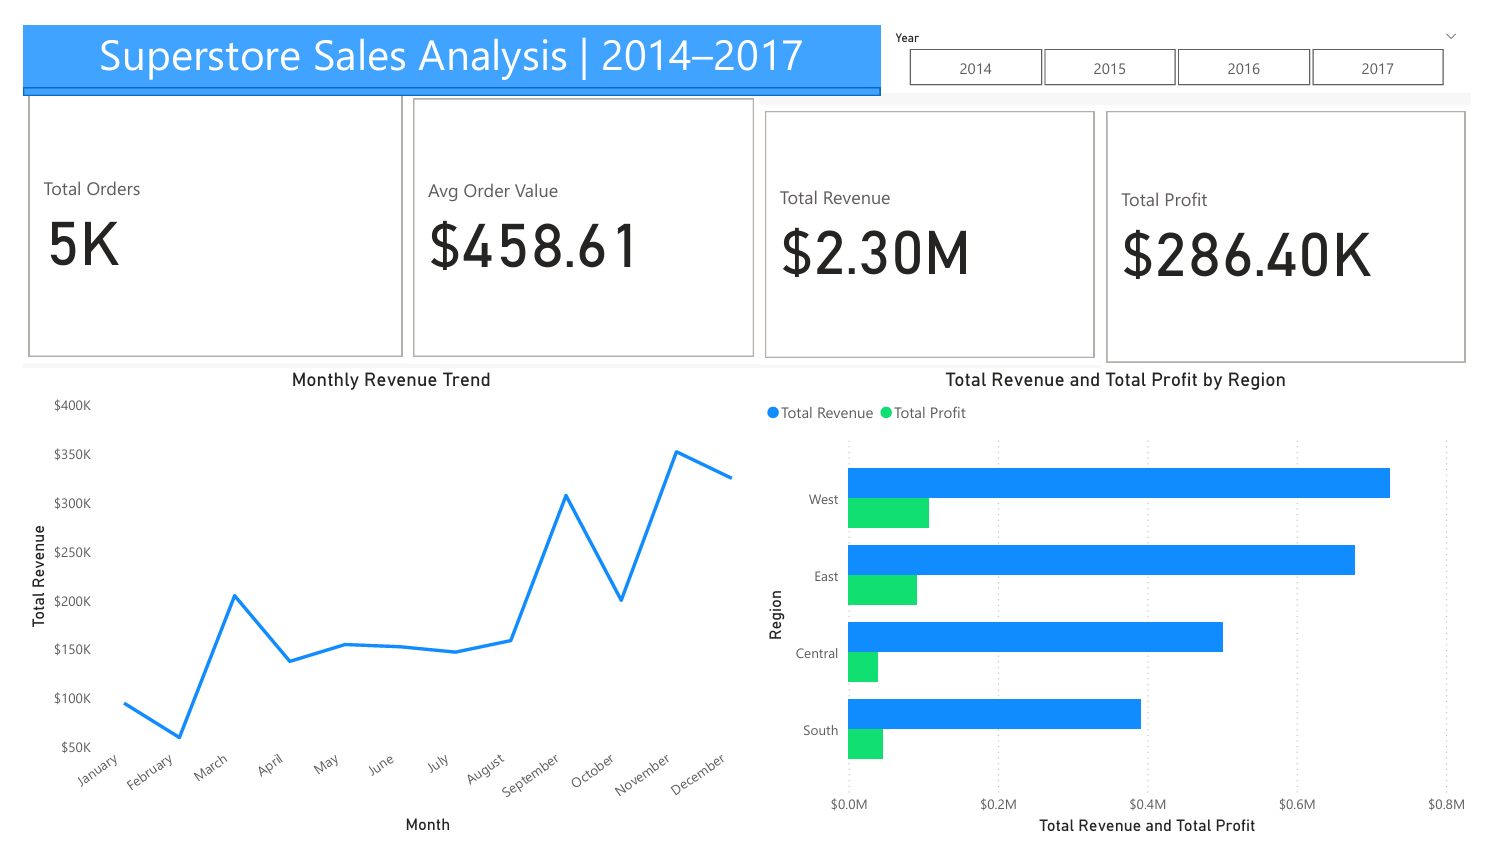

This screenshot's page, from the dashboard's own definition file:
{"tool":"powerbi","page":{"name":"Overview","canvas":[1280,720],"ordinal":0},"visuals":[{"type":"cardVisual","fields":{"Data":["Orders.Total Profit"]},"box":[966.7,61.7,313.3,241.7],"z":1000},{"type":"cardVisual","fields":{"Data":["Orders.Avg Order Value"]},"box":[340,60,311.4,238.6],"z":2000},{"type":"cardVisual","fields":{"Data":["Orders.Total Orders"]},"box":[0,60,340,238.3],"z":3000},{"type":"lineChart","title":"Monthly Revenue Trend","fields":{"Category":["Orders.Order Date.Variation.Date Hierarchy.Year","Orders.Order Date.Variation.Date Hierarchy.Quarter","Orders.Order Date.Variation.Date Hierarchy.Month","Orders.Order Date.Variation.Date Hierarchy.Day"],"Y":["Orders.Total Revenue"]},"box":[0,302.9,651.4,417.1],"z":4000},{"type":"clusteredBarChart","fields":{"Category":["Orders.Region"],"Y":["Orders.Total Revenue","Orders.Total Profit"]},"box":[651.7,303.3,628.3,416.7],"z":5000},{"type":"slicer","fields":{"Values":["Orders.Order Date.Variation.Date Hierarchy.Year"]},"box":[758.3,0,521.7,60],"z":6000},{"type":"cardVisual","fields":{"Data":["Orders.Total Revenue"]},"box":[651.7,61.7,315,238.3],"z":6004},{"type":"shape","title":"Superstore Sales Analysis | 2014–2017    ","box":[0,0,758.3,61.7],"z":6005}]}

Visuals, with their boxes in screenshot pixels (x1, y1, x2, y2), scaled from the page's 1280x720 canvas onto the 1493x862 screenshot:
cardVisual - Orders.Total Profit: x1=1128 y1=74 x2=1492 y2=363
cardVisual - Orders.Avg Order Value: x1=397 y1=72 x2=760 y2=357
cardVisual - Orders.Total Orders: x1=0 y1=72 x2=397 y2=357
"Monthly Revenue Trend" lineChart: x1=0 y1=363 x2=760 y2=861
clusteredBarChart - Orders.Region x Orders.Total Revenue: x1=760 y1=363 x2=1492 y2=861
slicer - Orders.Order Date.Variation.Date Hierarchy.Year: x1=884 y1=0 x2=1492 y2=72
cardVisual - Orders.Total Revenue: x1=760 y1=74 x2=1128 y2=359
"Superstore Sales Analysis | 2014–2017    " shape: x1=0 y1=0 x2=884 y2=74
